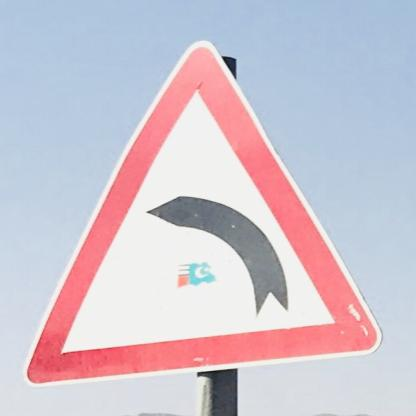Left bend: (25, 36, 380, 379)
